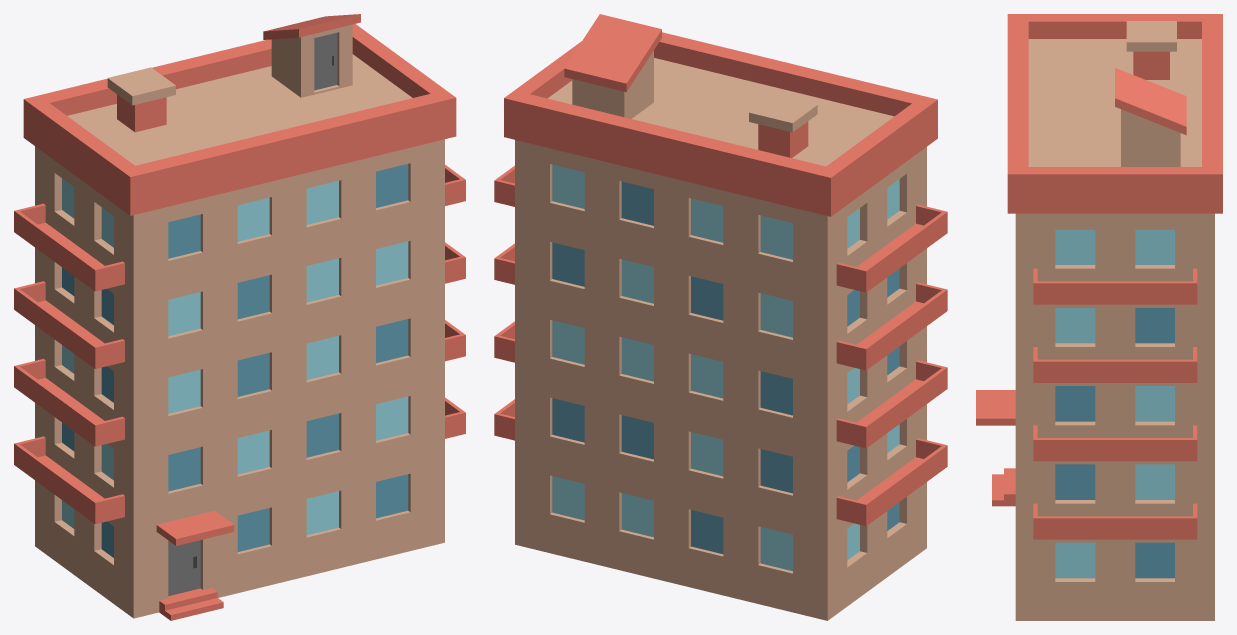
The model's file is House 2.4.fbx.
The picture shows the model from 3 angles, left to right: view 1: azimuth 30°, elevation 25°; view 2: azimuth 150°, elevation 25°; view 3: azimuth 270°, elevation 25°; orthographic projection.
Visible parts, largest first — view 1: House_Type2_4; view 2: House_Type2_4; view 3: House_Type2_4.
Boxes of the visible parts, bbox=[...] form: House_Type2_4: bbox=[14, 14, 465, 620]; House_Type2_4: bbox=[494, 14, 947, 620]; House_Type2_4: bbox=[976, 14, 1222, 620].
Bounding box in the file's own units: 1000 × 1292 × 572.
